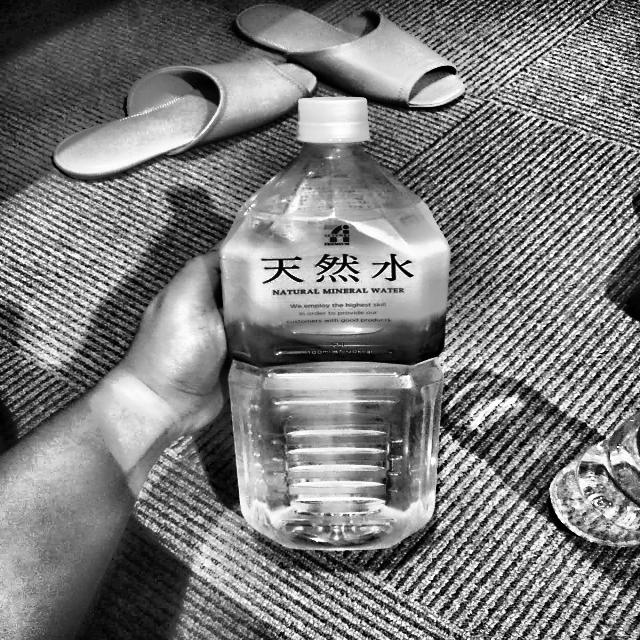waterbottle: (220, 96, 450, 551)
